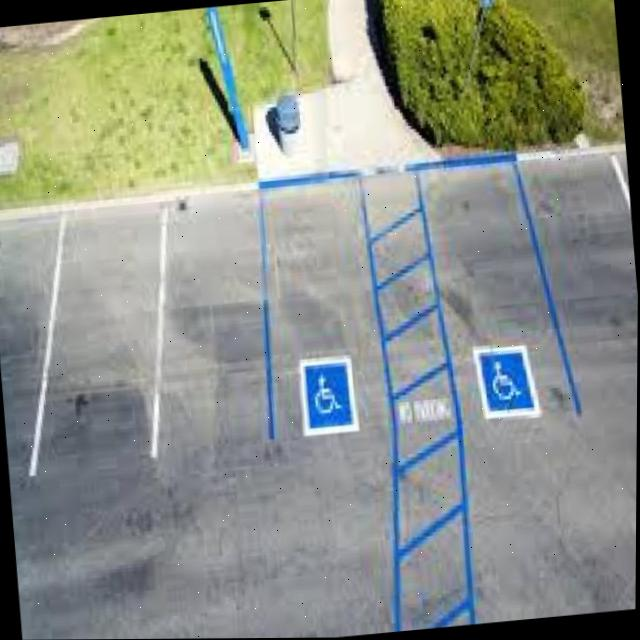symbol_of_access: (304, 362, 353, 435), (482, 351, 529, 413)
